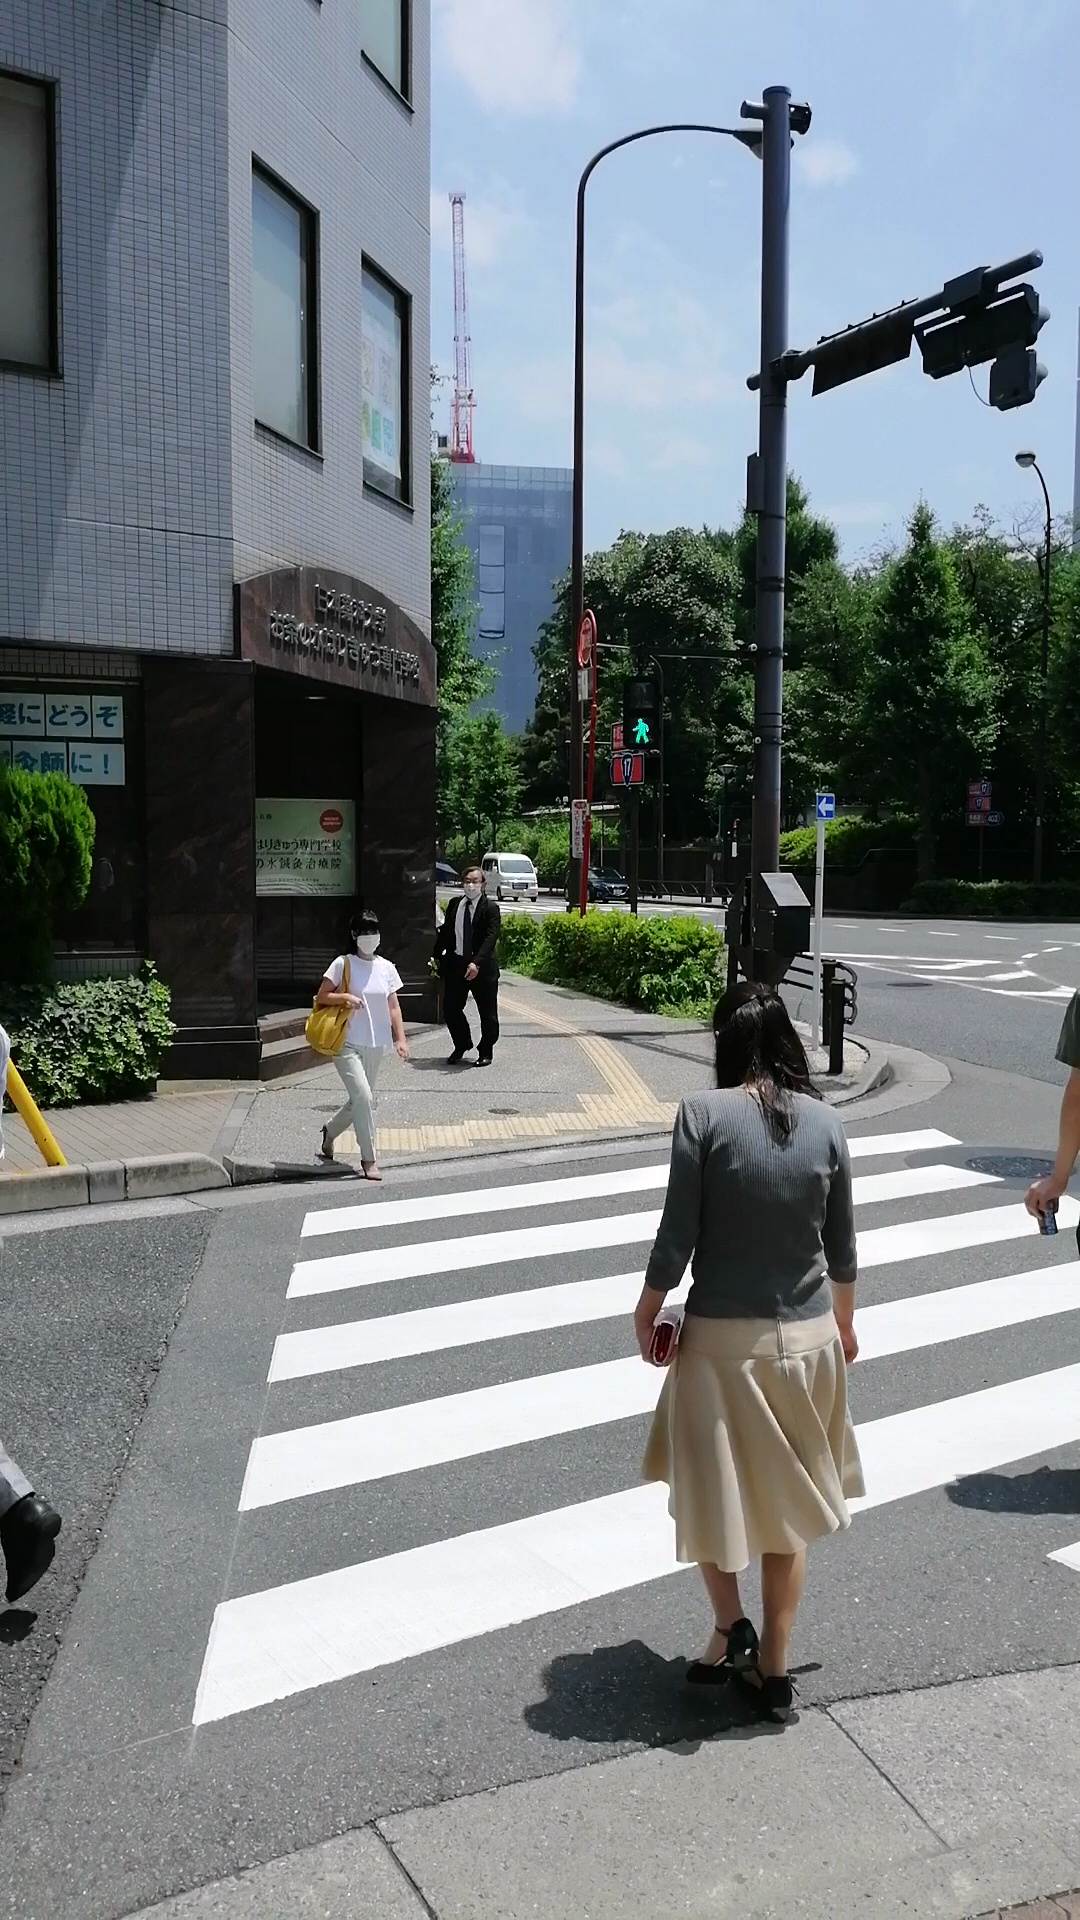green: (622, 675, 659, 752)
